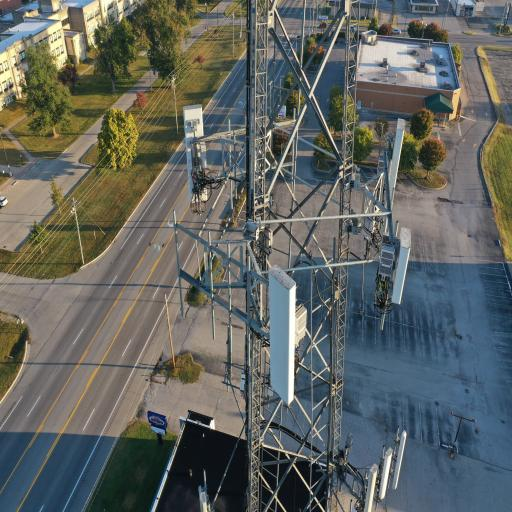supporting_tower: (181, 0, 427, 512)
